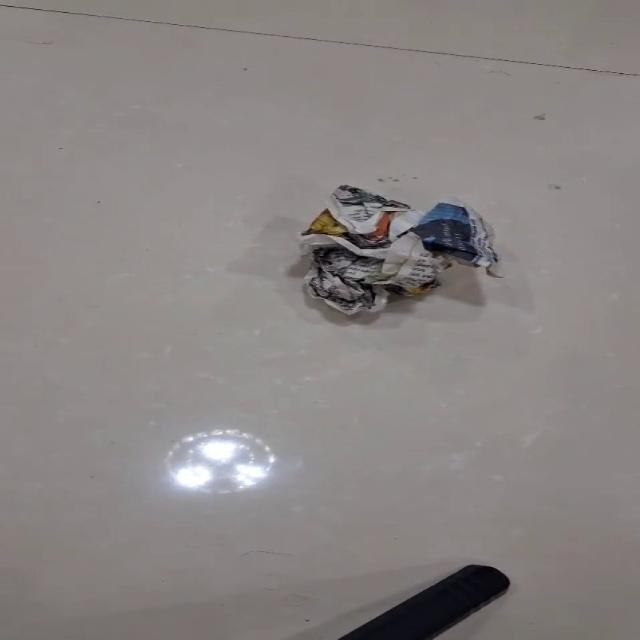paper: (297, 183, 502, 315)
